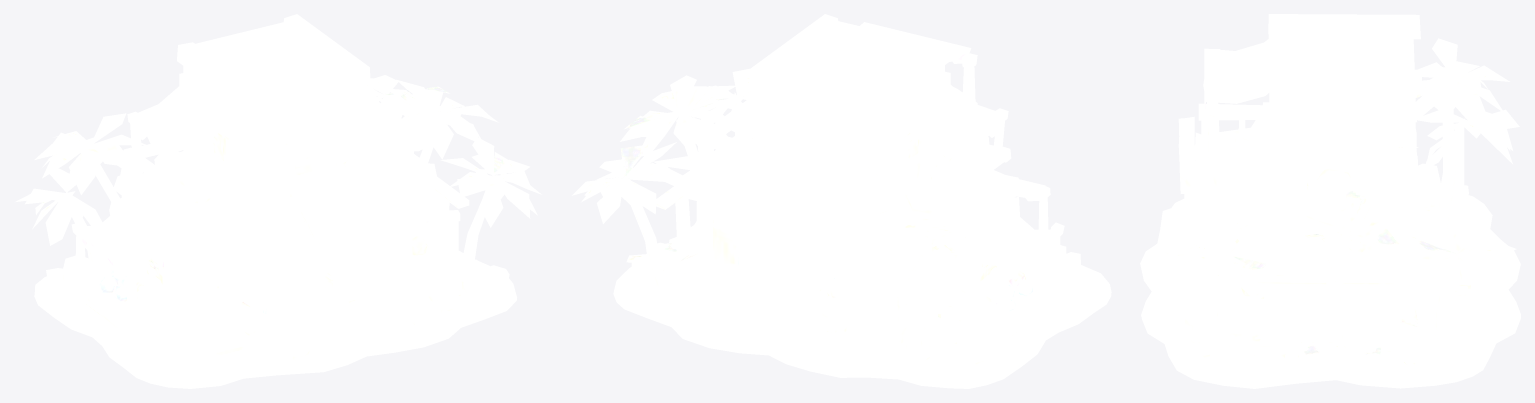
Rendered from bazar-deserto.glb.
The picture shows the model from 3 angles, left to right: view 1: azimuth 30°, elevation 25°; view 2: azimuth 150°, elevation 25°; view 3: azimuth 270°, elevation 25°; orthographic projection. The views are drawn at different scales.
Visible parts, largest first — view 1: mesh_node; view 2: mesh_node; view 3: mesh_node.
Boxes of the visible parts, x1,y1,x2,y2 form: mesh_node: (15, 14, 541, 388); mesh_node: (572, 14, 1111, 388); mesh_node: (1140, 14, 1520, 388).
Bounding box in the file's own units: 1 × 0.5859 × 0.7891.
1 material, 1 textured.
